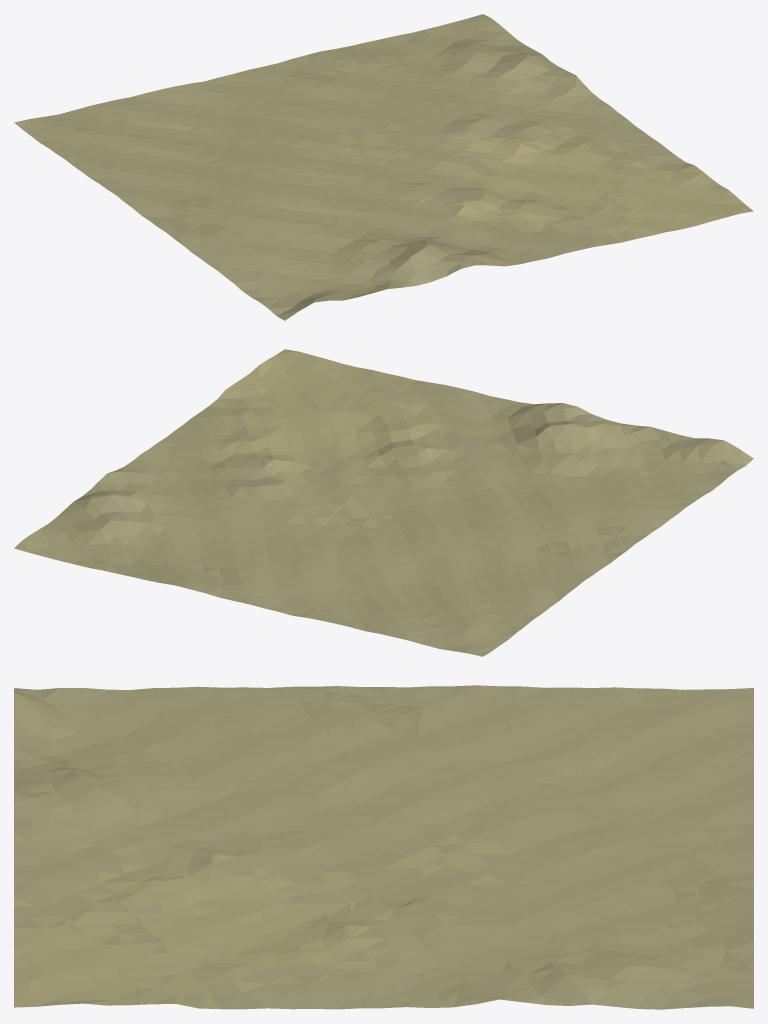
Rendered from Ground_4_4.glb.
The picture shows the model from 3 angles, top to bottom: view 1: azimuth 30°, elevation 25°; view 2: azimuth 150°, elevation 25°; view 3: azimuth 270°, elevation 25°; orthographic projection. The views are drawn at different scales.
Parts seen in each view (by area): view 1: Ground_4_4; view 2: Ground_4_4; view 3: Ground_4_4.
Part boxes in pixels (bbox=[...]): Ground_4_4: bbox=[14, 14, 753, 320]; Ground_4_4: bbox=[14, 349, 753, 656]; Ground_4_4: bbox=[14, 685, 753, 1009].
Bounding box in the file's own units: 768 × 32.39 × 768.
